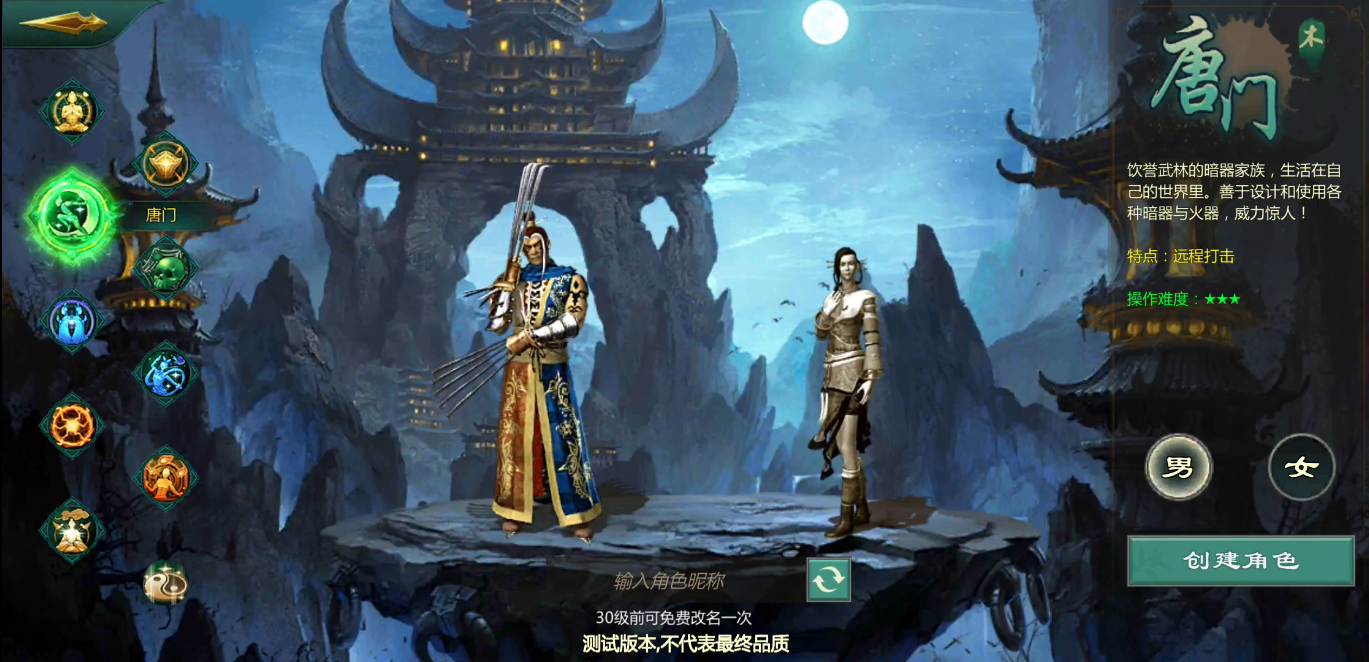cuiyan: (131, 338, 203, 406)
emei: (41, 289, 104, 358)
gaibang: (39, 391, 108, 463)
kunlun: (136, 553, 194, 618)
name: (807, 558, 855, 604)
shaolin: (36, 76, 106, 149)
tianren: (131, 443, 199, 518)
tianwang: (131, 126, 201, 201)
wudang: (39, 494, 108, 571)
wudu: (133, 234, 199, 308)
